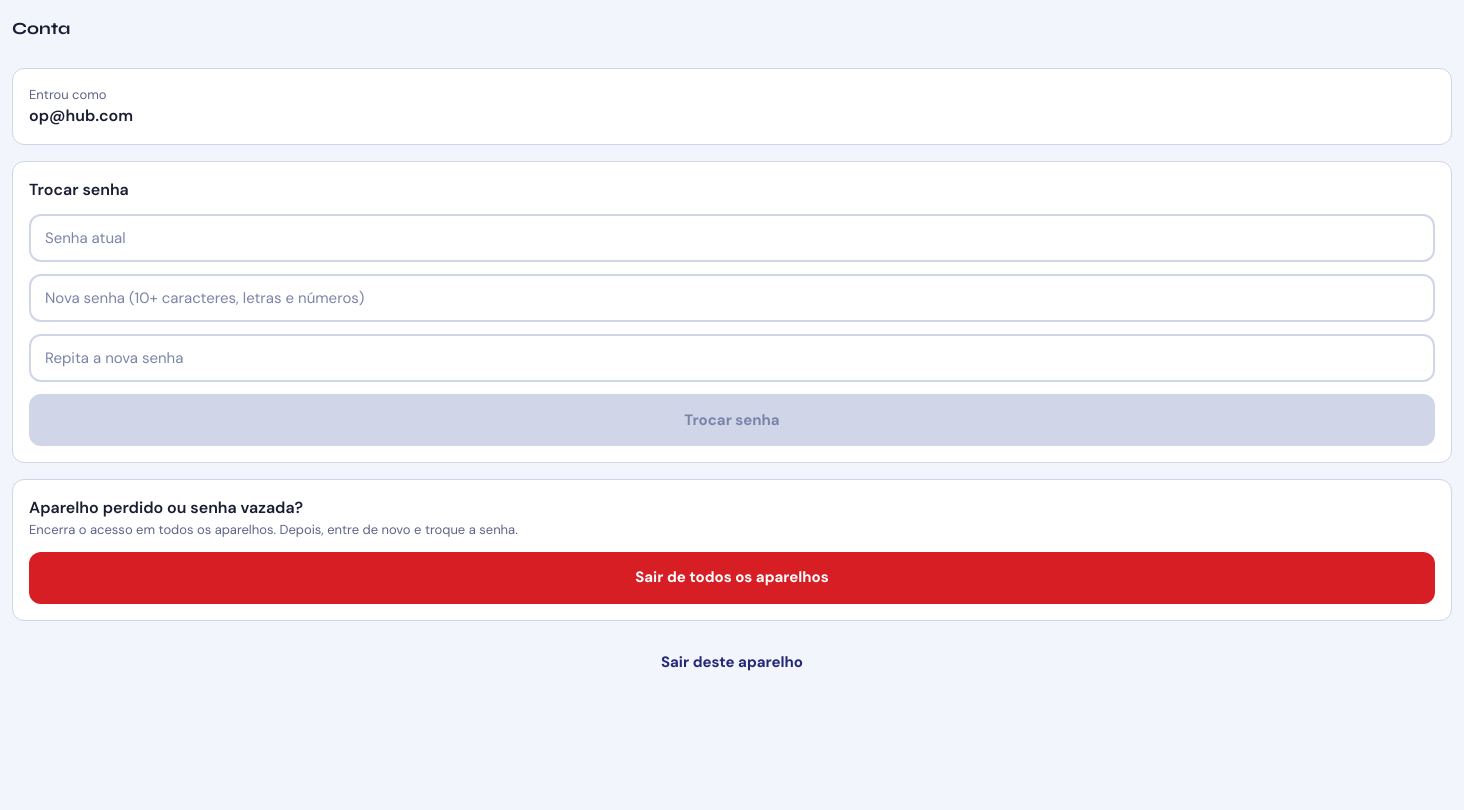
Test case: AccountPage › troca a senha e guarda o token novo
Type "antiga" into the password field with placeholder "Senha atual" at x=732, y=238, box [29,214,1435,262]
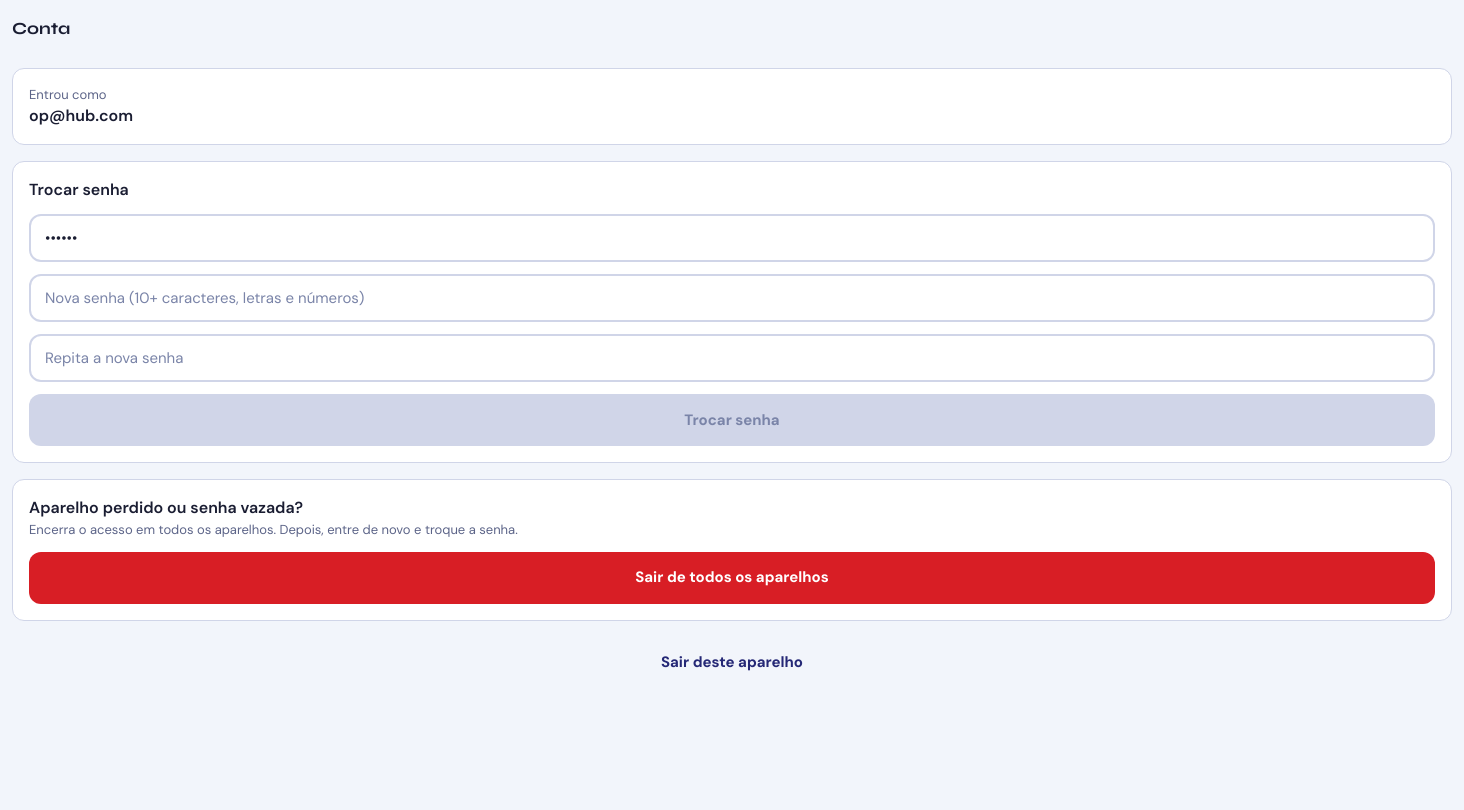
Type "NovaSenha2026" into the password field with placeholder "Nova senha (10+ caracteres, letras e números)" at x=732, y=298, box [29,274,1435,322]
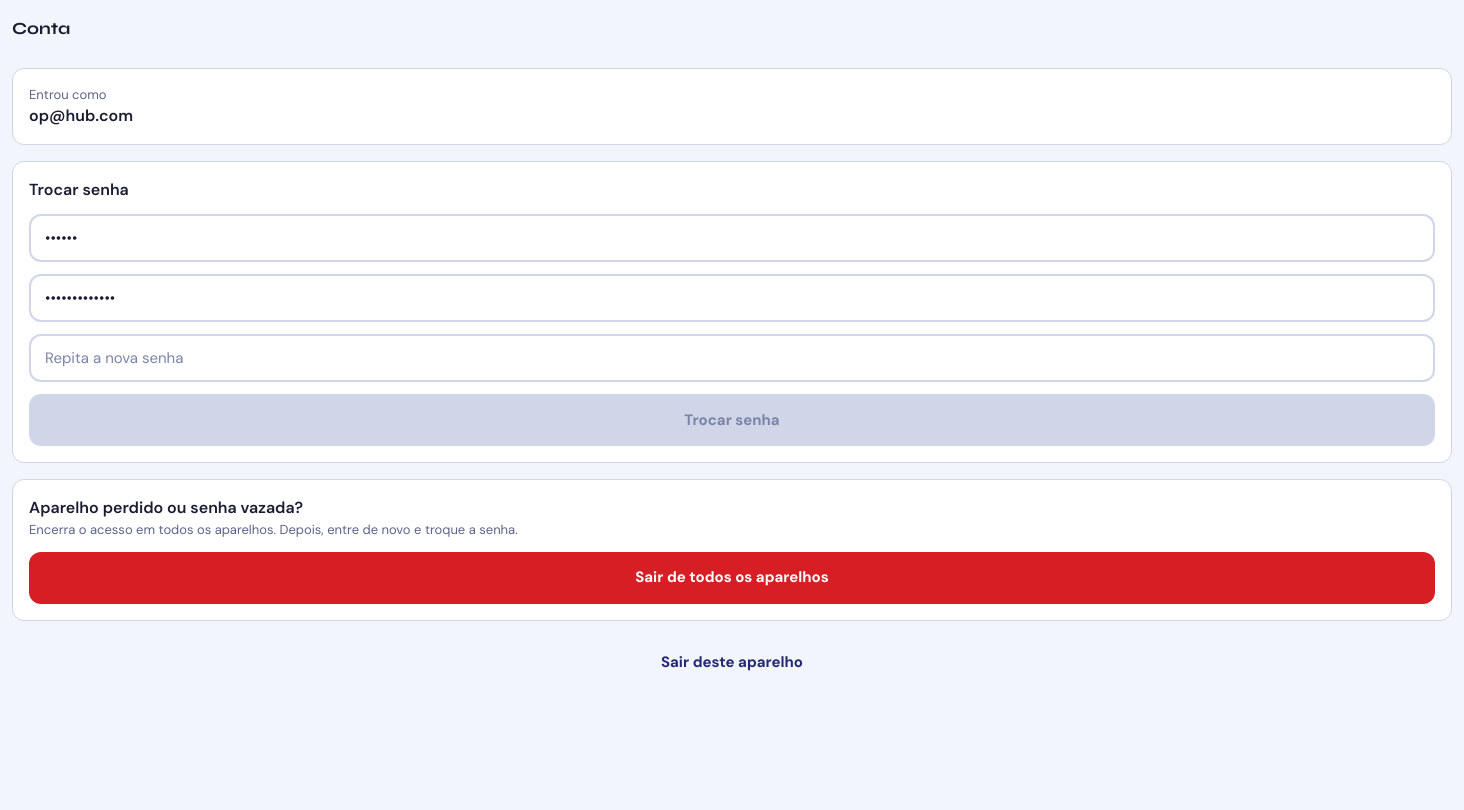
Type "NovaSenha2026" into the password field with placeholder "Repita a nova senha" at x=732, y=358, box [29,334,1435,382]
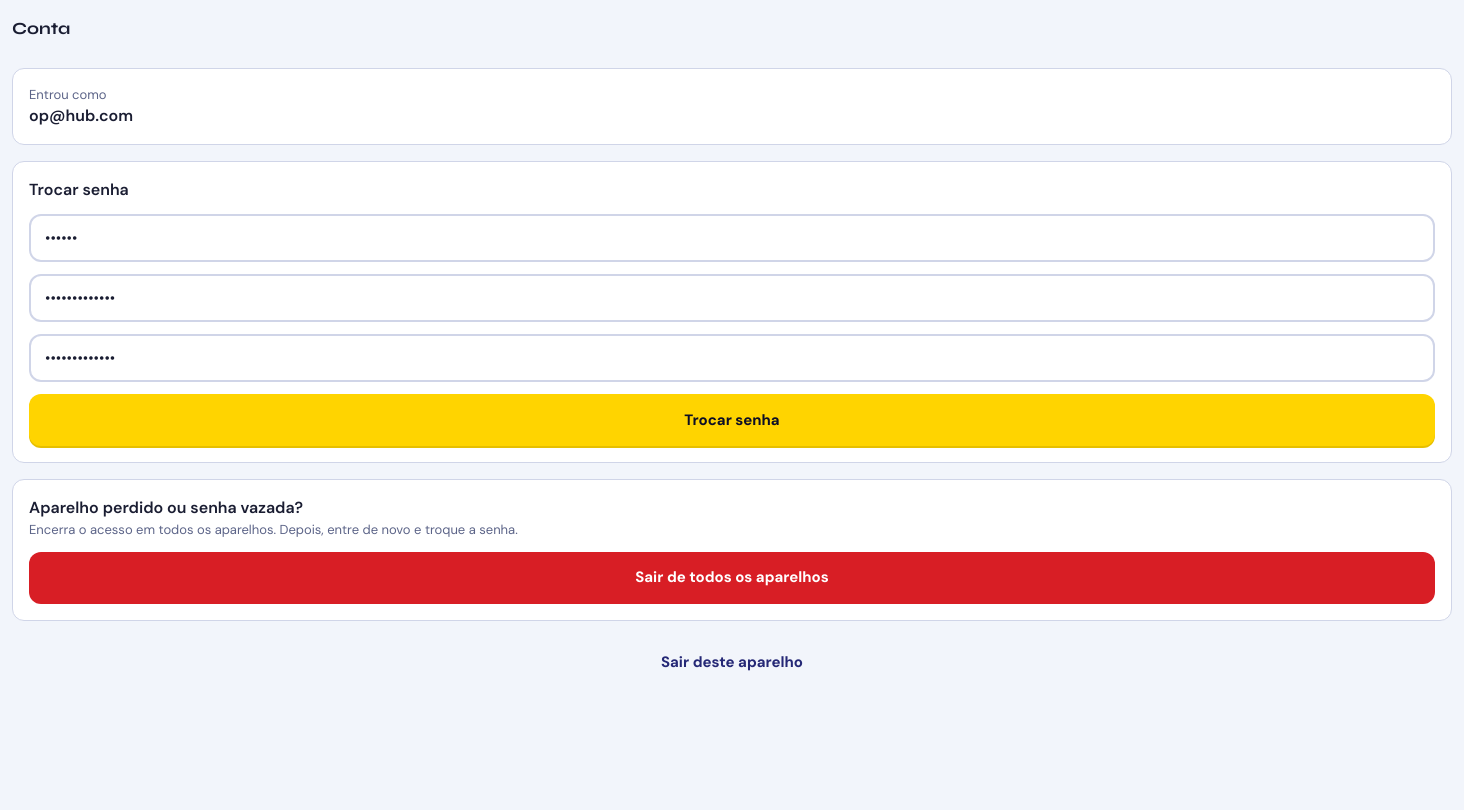
Click the button "Trocar senha" at x=732, y=420, box [29,394,1435,446]
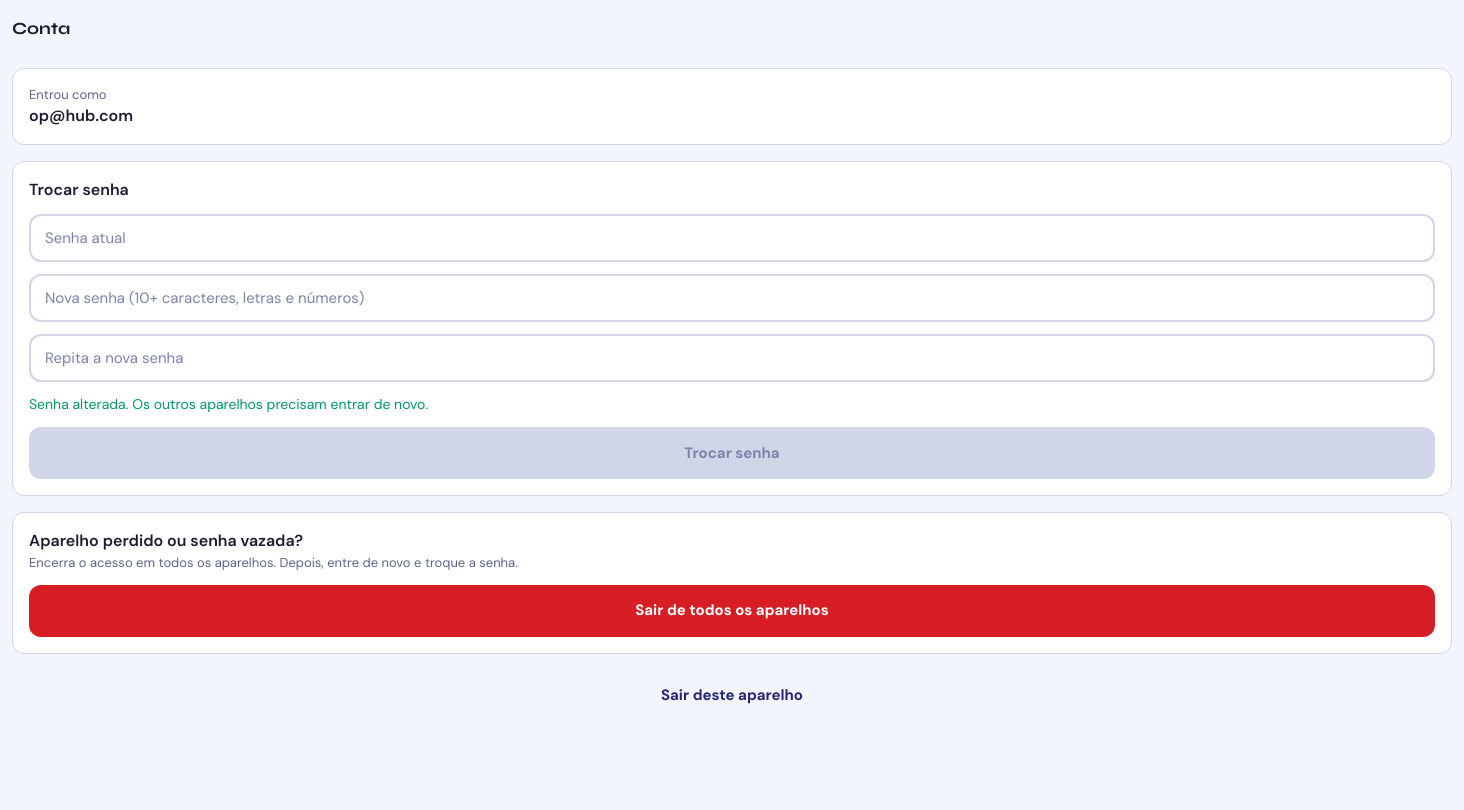
Expected: the message shows "Senha alterada", [29,395,428,413]
